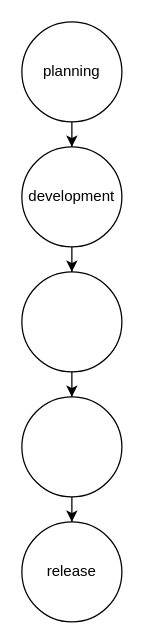
The diagram is 144 pixels wide and 644 high, and some of its shapes have lost their labels. The centre of each missing label's shape, as x and y in pixels:
build: the point at 71,321
test: the point at 71,446
